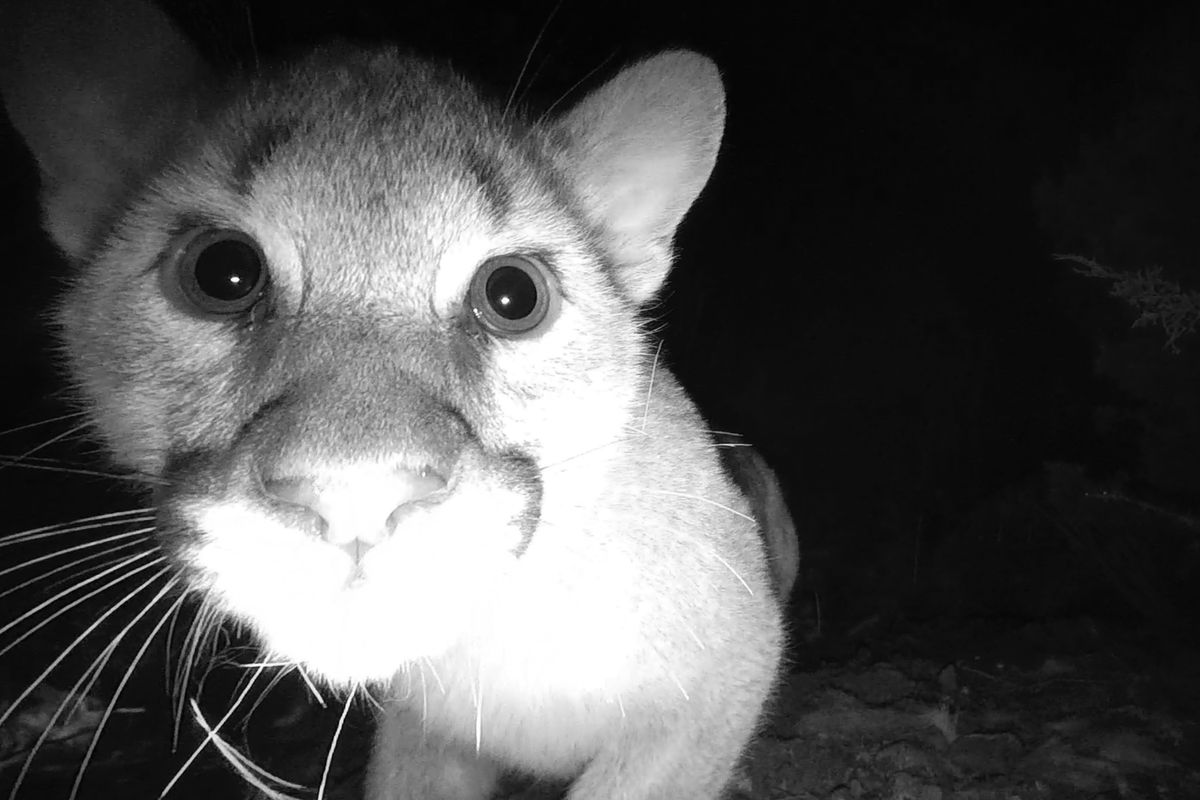mountain lion: (7, 9, 857, 792)
